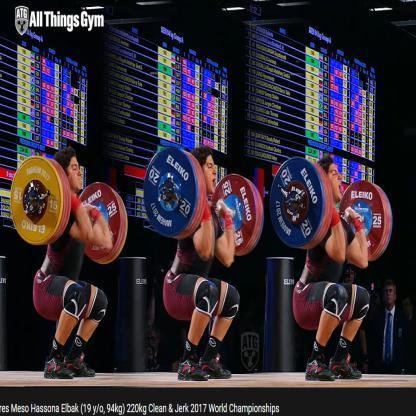barbell: (143, 146, 263, 258), (271, 156, 394, 263), (11, 157, 128, 265)
